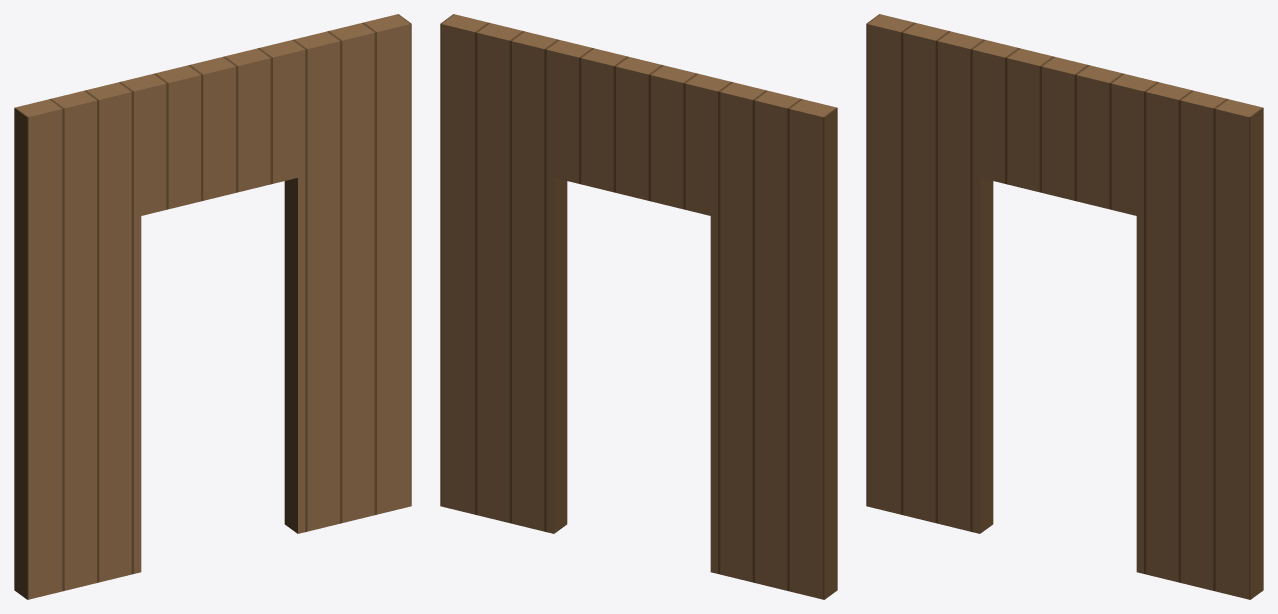
File: Wall2_C9_17.fbx
3 renders of one model, left to right at view 1: azimuth 30°, elevation 25°; view 2: azimuth 150°, elevation 25°; view 3: azimuth 330°, elevation 25°, orthographic.
Visible parts, largest first — view 1: Wall2_C9_17; view 2: Wall2_C9_17; view 3: Wall2_C9_17.
Boxes of the visible parts, box(x1,y1,x2,y2) form: Wall2_C9_17: box(14, 14, 411, 599); Wall2_C9_17: box(440, 14, 837, 599); Wall2_C9_17: box(866, 14, 1263, 599).
Bounding box in the file's own units: 250 × 300 × 15.
